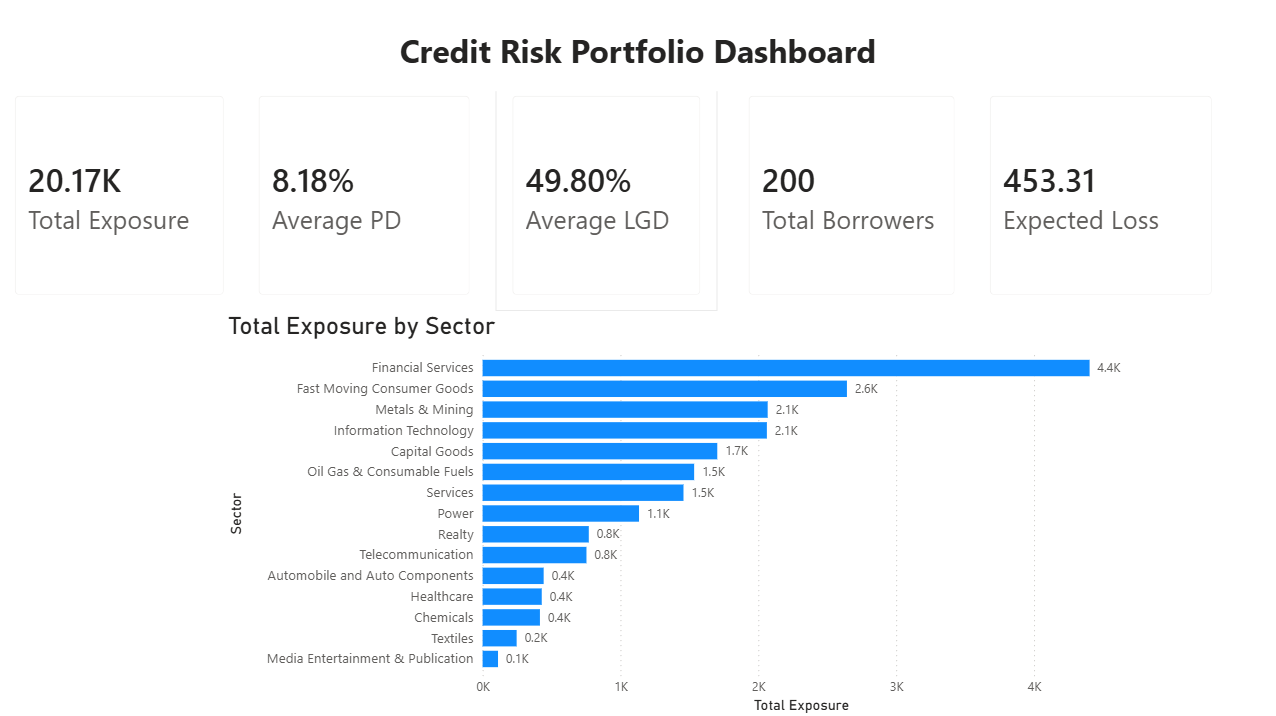

This screenshot's page, from the dashboard's own definition file:
{"tool":"powerbi","page":{"name":"Executive Dashboard","canvas":[1280,720],"ordinal":0},"visuals":[{"type":"cardVisual","fields":{"Data":["Sum(Credit_Risk_Portfolio.EAD)"]},"box":[0,79.5,243.3,233.6],"z":0},{"type":"cardVisual","fields":{"Data":["Sum(Credit_Risk_Portfolio.Expected_Loss)"]},"box":[974.6,79.5,256.8,233.6],"z":1000},{"type":"cardVisual","fields":{"Data":["Avg(Credit_Risk_Portfolio.LGD)"]},"box":[497.7,79.5,222.6,233.6],"z":2000},{"type":"cardVisual","fields":{"Data":["Avg(Credit_Risk_Portfolio.PD)"]},"box":[243.3,79.5,245.8,233.6],"z":3000},{"type":"cardVisual","fields":{"Data":["Credit_Risk_Portfolio.Total Borrowers"]},"box":[733.7,79.5,240.9,233.6],"z":4000},{"type":"textbox","box":[354.6,24.5,569.8,67.3],"z":5000},{"type":"clusteredBarChart","fields":{"Category":["Credit_Risk_Portfolio.Sector"],"Y":["Sum(Credit_Risk_Portfolio.EAD)"]},"box":[225,313,909.8,407.2],"z":6000}]}

Visuals, with their boxes in screenshot pixels (x1, y1, x2, y2), scaled from the page's 1280x720 canvas onto the 1276x716 screenshot:
cardVisual - Sum(Credit_Risk_Portfolio.EAD): (0,79,243,311)
cardVisual - Sum(Credit_Risk_Portfolio.Expected_Loss): (972,79,1228,311)
cardVisual - Avg(Credit_Risk_Portfolio.LGD): (496,79,718,311)
cardVisual - Avg(Credit_Risk_Portfolio.PD): (243,79,488,311)
cardVisual - Credit_Risk_Portfolio.Total Borrowers: (731,79,972,311)
textbox: (353,24,922,91)
clusteredBarChart - Credit_Risk_Portfolio.Sector x Sum(Credit_Risk_Portfolio.EAD): (224,311,1131,715)
